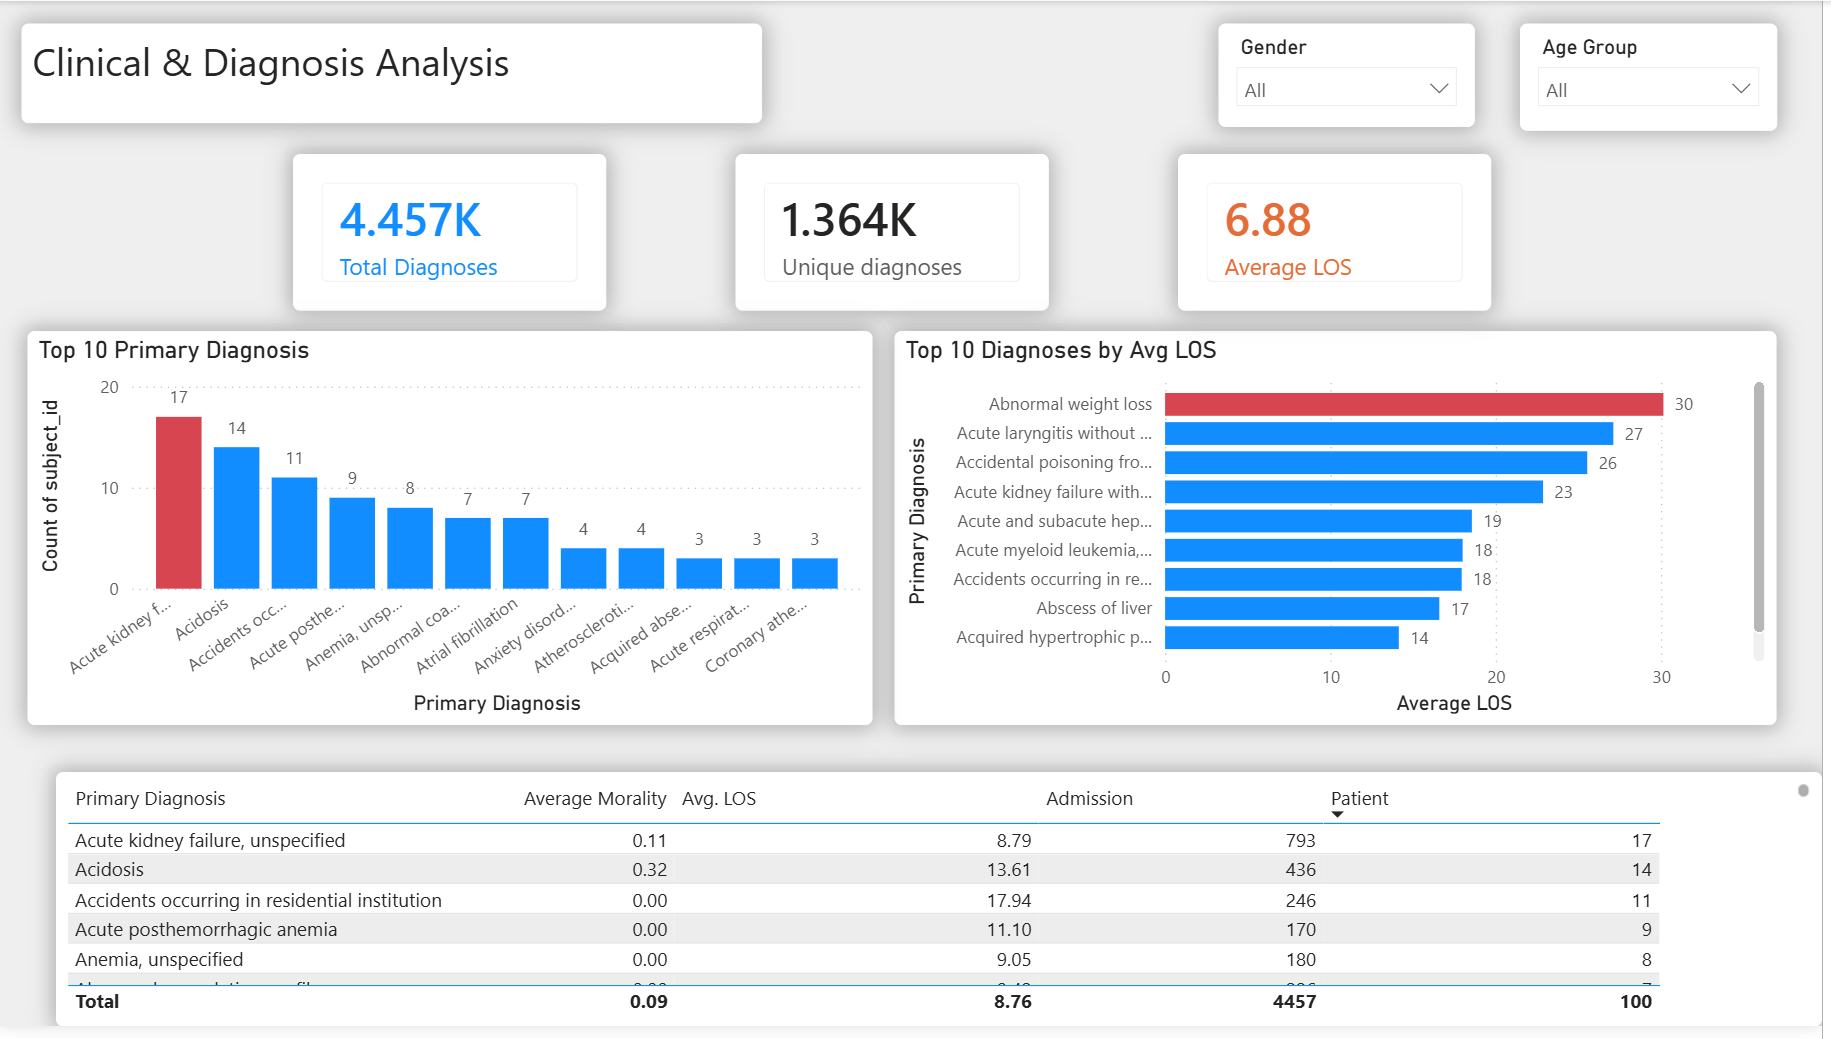

What the dashboard file says about the page in this screenshot:
{"tool":"powerbi","page":{"name":"Clinical Analysis","canvas":[1280,720],"ordinal":2},"visuals":[{"type":"cardVisual","fields":{"Data":["CountNonNull(vw_patient_diagnosis.long_title)"]},"box":[205.9,107.9,220.1,110],"z":0},{"type":"cardVisual","fields":{"Data":["Count(public vw_patient_diagnosis.long_title)"]},"box":[516.9,107.9,220.1,110],"z":1000},{"type":"clusteredBarChart","title":"Top 10 Diagnoses by Avg LOS","fields":{"Y":["Avg(public vw_patient_diagnosis.length_of_stay)"],"Category":["public patient_analysis_view.primary_diagnosis"]},"box":[629.1,231.5,619.2,276.9],"z":2000},{"type":"cardVisual","fields":{"Data":["Avg(public patient_summary_view.length_of_stay)"]},"box":[827.9,107.9,220.1,110],"z":3000},{"type":"tableEx","fields":{"Values":["public patient_analysis_view.primary_diagnosis","Avg(vw_patient_diagnosis.hospital_expire_flag)","Avg(vw_patient_diagnosis.length_of_stay)","CountNonNull(vw_patient_diagnosis.hadm_id)","Count(vw_patient_diagnosis.subject_id)"]},"box":[39.8,541.1,1239.8,178.9],"z":4000},{"type":"clusteredColumnChart","title":"Top 10 Primary Diagnosis","fields":{"Category":["public patient_analysis_view.primary_diagnosis"],"Y":["Count(public patient_analysis_view.subject_id)"]},"box":[19.9,231.5,593.6,276.9],"z":5000},{"type":"textbox","box":[15.6,15.6,520,70],"z":6000},{"type":"slicer","fields":{"Values":["public patient_analysis_view.gender"]},"box":[856.3,15.6,180,72.4],"z":7000},{"type":"slicer","fields":{"Values":["public patient_summary_view.age_group"]},"box":[1067.9,15.6,180.4,75.3],"z":8000}]}

Visuals, with their boxes in screenshot pixels (x1, y1, x2, y2), scaled from the page's 1280x720 canvas onto the 1831x1039 screenshot:
cardVisual - CountNonNull(vw_patient_diagnosis.long_title): <box>295,156,609,314</box>
cardVisual - Count(public vw_patient_diagnosis.long_title): <box>739,156,1054,314</box>
"Top 10 Diagnoses by Avg LOS" clusteredBarChart: <box>900,334,1786,734</box>
cardVisual - Avg(public patient_summary_view.length_of_stay): <box>1184,156,1499,314</box>
tableEx - public patient_analysis_view.primary_diagnosis x Avg(vw_patient_diagnosis.hospital_expire_flag): <box>57,781,1830,1038</box>
"Top 10 Primary Diagnosis" clusteredColumnChart: <box>28,334,878,734</box>
textbox: <box>22,23,766,124</box>
slicer - public patient_analysis_view.gender: <box>1225,23,1482,127</box>
slicer - public patient_summary_view.age_group: <box>1528,23,1786,131</box>
